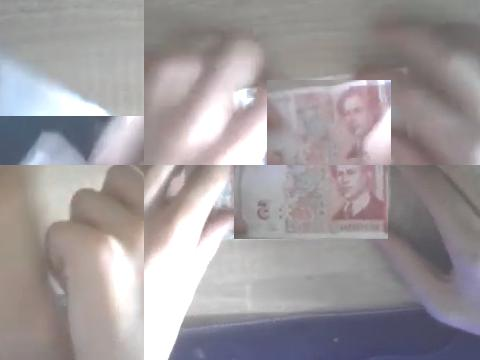5leva: (234, 165, 388, 239), (267, 80, 391, 165)
